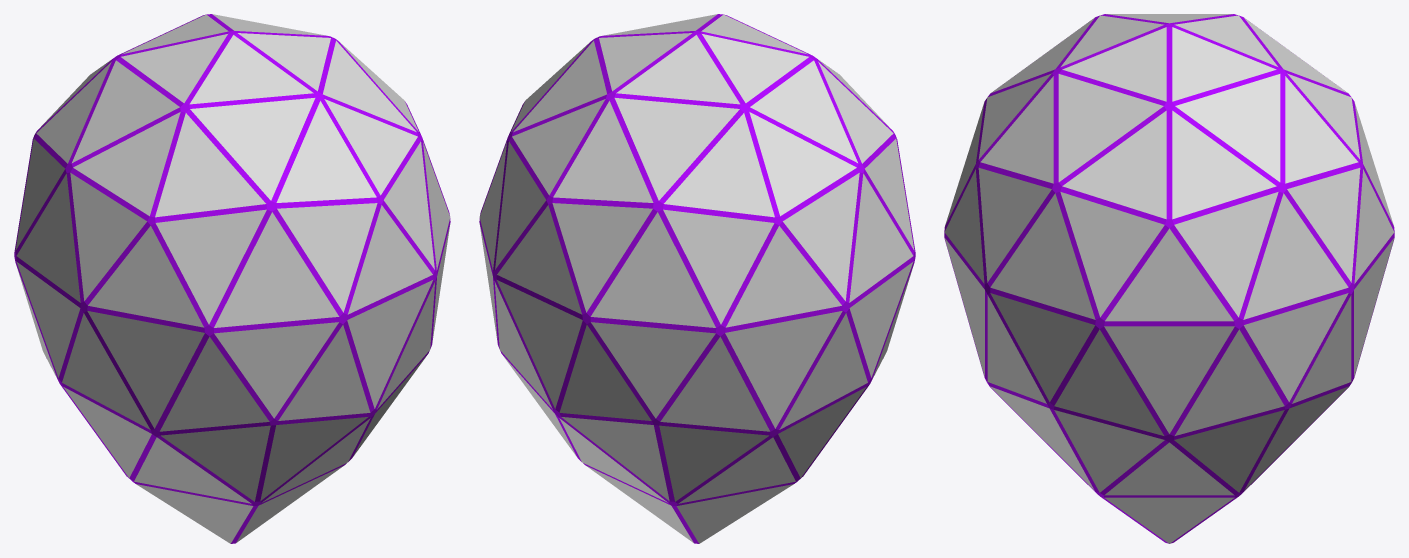
File: Cristal Magic Flower.fbx
The picture shows the model from 3 angles, left to right: view 1: azimuth 30°, elevation 25°; view 2: azimuth 150°, elevation 25°; view 3: azimuth 270°, elevation 25°; orthographic projection.
Visible parts, largest first — view 1: Cristal; view 2: Cristal; view 3: Cristal.
Boxes of the visible parts, bbox=[...] form: Cristal: bbox=[14, 14, 450, 543]; Cristal: bbox=[479, 14, 915, 543]; Cristal: bbox=[944, 14, 1394, 543].
Bounding box in the file's own units: 0.5901 × 0.7805 × 0.6162.
